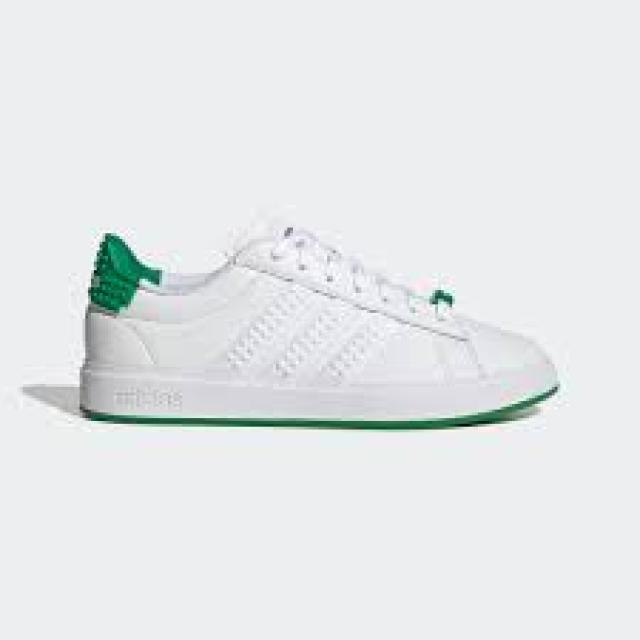shoe: (76, 230, 567, 432)
